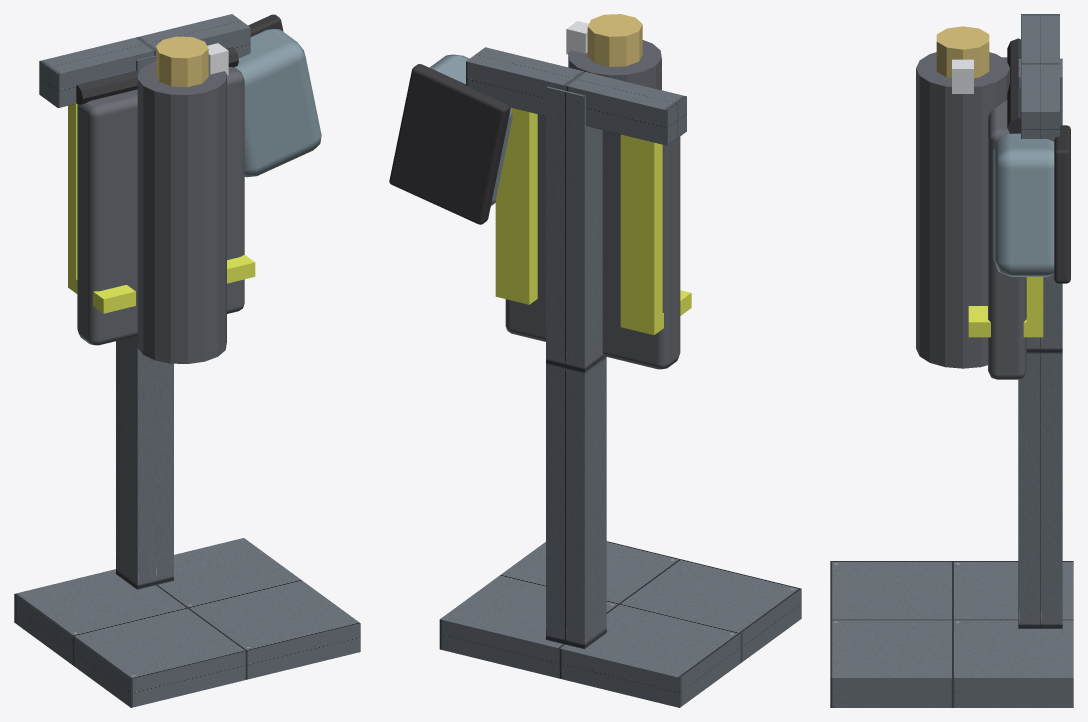
Rendered from fire-and-emergency-services-breathing-apparatus-stand-2bef988a__29913.glb.
3 renders of one model, left to right at view 1: azimuth 30°, elevation 25°; view 2: azimuth 150°, elevation 25°; view 3: azimuth 270°, elevation 25°, orthographic. The views are drawn at different scales.
Parts seen in each view (by area): view 1: breathing-apparatus-stand; view 2: breathing-apparatus-stand; view 3: breathing-apparatus-stand.
Part boxes in pixels (x1,y1,x2,y2): breathing-apparatus-stand: (14,14,360,707); breathing-apparatus-stand: (389,14,801,707); breathing-apparatus-stand: (830,14,1073,707).
Bounding box in the file's own units: 0.6113 × 1.22 × 0.4399.
Materials: 7 (1 with a texture image).
